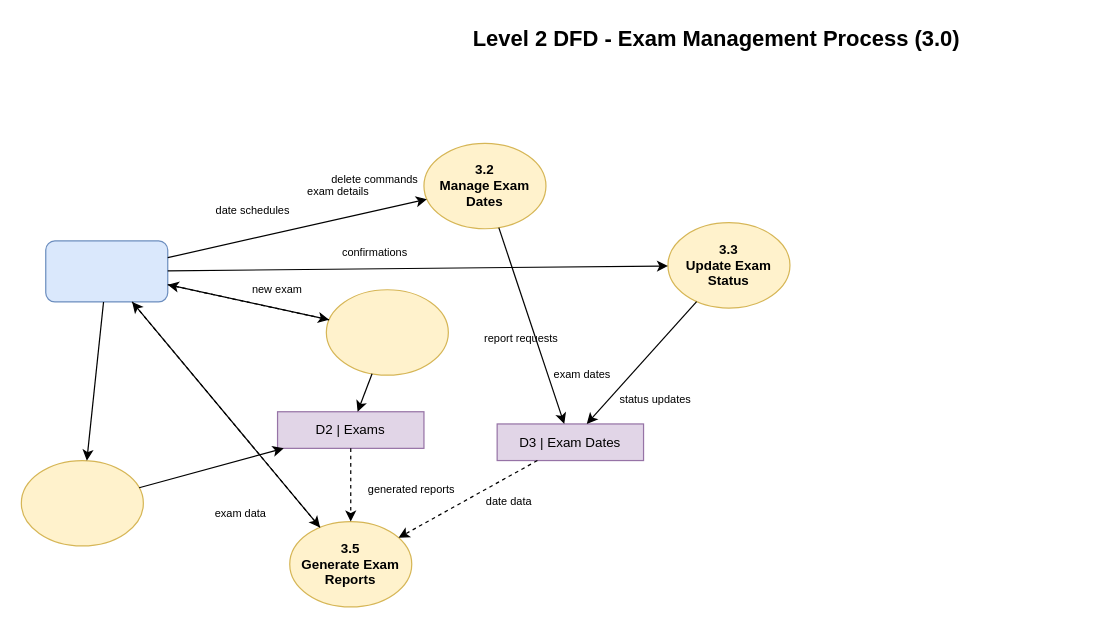
The diagram is 1104 pixels wide and 628 high, and some of its shapes have lost their labels. Each missing label, with the centre of its shape:
3.1 Create Exam: (386,332)
3.4 Delete/Cancel Exam: (81,502)
Admin: (106,271)
